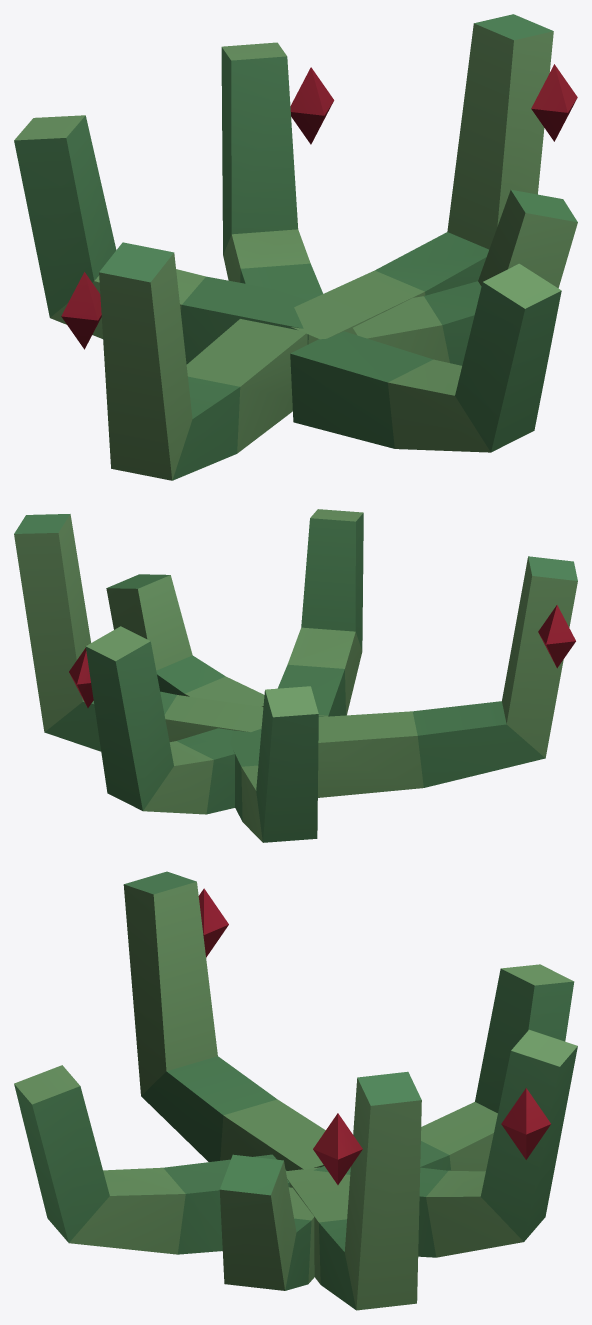
Rendered from custom-cacto-da-restinga.glb.
3 renders of one model, top to bottom at view 1: azimuth 30°, elevation 25°; view 2: azimuth 150°, elevation 25°; view 3: azimuth 270°, elevation 25°, orthographic. The views are drawn at different scales.
Parts seen in each view (by area): view 1: cacto-da-restinga; view 2: cacto-da-restinga; view 3: cacto-da-restinga.
Part boxes in pixels (left/top/right/bottom): cacto-da-restinga: left=14, top=14, right=577, bottom=480; cacto-da-restinga: left=14, top=509, right=577, bottom=842; cacto-da-restinga: left=14, top=871, right=577, bottom=1310.
Size of the model in its own units: 1.89 by 0.8655 by 1.69.
